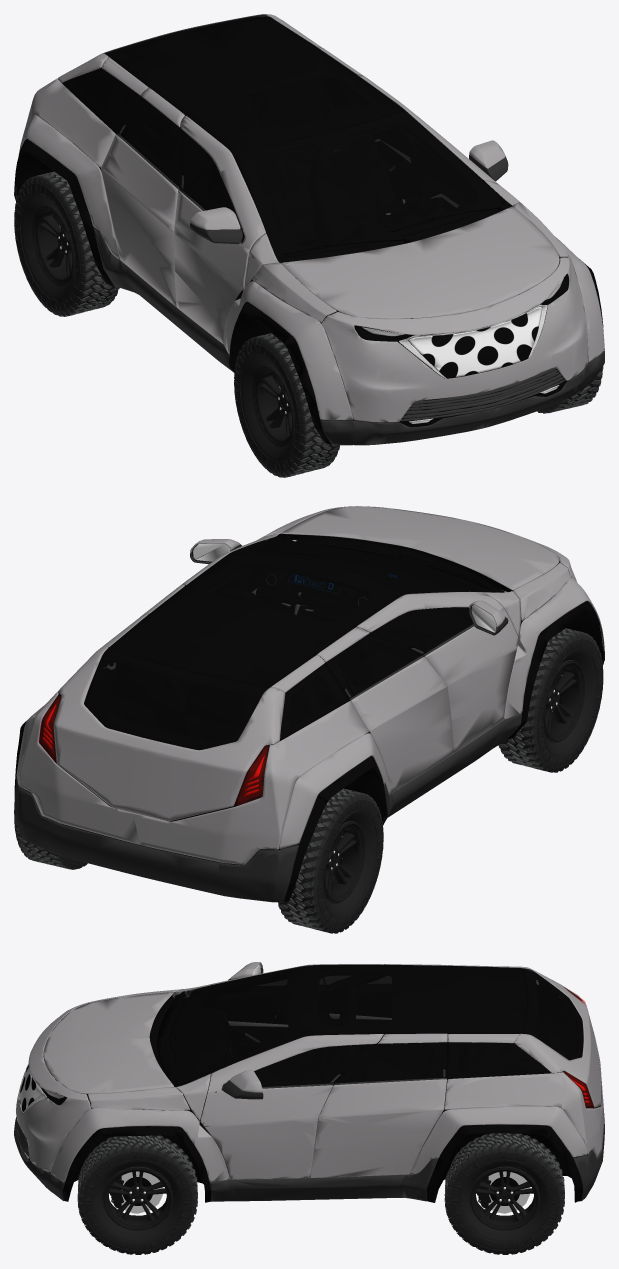
Rendered from suv.glb.
3 renders of one model, top to bottom at view 1: azimuth 30°, elevation 25°; view 2: azimuth 150°, elevation 25°; view 3: azimuth 270°, elevation 25°, orthographic. The views are drawn at different scales.
Parts seen in each view (by area): view 1: Object_84_baked, Object_88_baked, Object_463_baked, Object_106_baked, wheel_701_Material.010_0, wheel_701_wheel_nitto_0, Object_91_baked, wheel_701_wheel_disk_0, Cube.169_grill_0, Object_95_baked, Object_96_baked, windshield_whiper_175_windshield_whipers_0 (+1 smaller); view 2: Object_84_baked, Object_88_baked, Object_463_baked, Object_106_baked, wheel_701_Material.010_0, wheel_701_wheel_nitto_0, wheel_701_wheel_disk_0, Object_91_baked, Object_95_baked, Object_467_baked, Object_96_baked, Object_94_baked (+1 smaller); view 3: Object_84_baked, Object_463_baked, Object_88_baked, wheel_701_Material.010_0, Object_106_baked, wheel_701_wheel_nitto_0, Object_91_baked, wheel_701_wheel_disk_0, Object_95_baked, wheel_701_brakedisk_0, Object_96_baked, Object_475_baked (+4 smaller).
Boxes of the visible parts, <box> form: Object_84_baked: <box>18,14,604,422</box>; Object_88_baked: <box>16,17,588,427</box>; Object_463_baked: <box>63,14,503,257</box>; Object_106_baked: <box>14,125,604,445</box>; wheel_701_Material.010_0: <box>14,175,601,475</box>; wheel_701_wheel_nitto_0: <box>14,171,603,477</box>; Object_91_baked: <box>14,138,603,444</box>; wheel_701_wheel_disk_0: <box>32,205,293,446</box>; Cube.169_grill_0: <box>409,307,542,377</box>; Object_95_baked: <box>122,92,457,244</box>; Object_96_baked: <box>375,139,547,378</box>; windshield_whiper_175_windshield_whipers_0: <box>282,204,504,255</box>; Object_84_baked: <box>16,506,604,864</box>; Object_88_baked: <box>20,533,603,900</box>; Object_463_baked: <box>84,537,494,749</box>; Object_106_baked: <box>14,544,604,902</box>; wheel_701_Material.010_0: <box>15,631,602,931</box>; wheel_701_wheel_nitto_0: <box>14,628,603,933</box>; wheel_701_wheel_disk_0: <box>323,661,584,902</box>; Object_91_baked: <box>14,537,604,901</box>; Object_95_baked: <box>116,568,458,716</box>; Object_467_baked: <box>39,695,268,804</box>; Object_96_baked: <box>193,543,496,632</box>; Object_94_baked: <box>39,576,377,806</box>; Object_84_baked: <box>16,962,604,1182</box>; Object_463_baked: <box>169,964,583,1086</box>; Object_88_baked: <box>19,964,600,1202</box>; wheel_701_Material.010_0: <box>79,1133,563,1253</box>; Object_106_baked: <box>14,968,604,1201</box>; wheel_701_wheel_nitto_0: <box>77,1133,564,1254</box>; Object_91_baked: <box>62,991,582,1202</box>; wheel_701_wheel_disk_0: <box>103,1168,538,1230</box>; Object_95_baked: <box>245,990,477,1081</box>; wheel_701_brakedisk_0: <box>121,1171,529,1213</box>; Object_96_baked: <box>23,964,391,1112</box>; Object_475_baked: <box>271,977,446,1083</box>.
Bounding box in the file's own units: 2.31 × 1.71 × 4.61.
37 materials, 2 textured.
